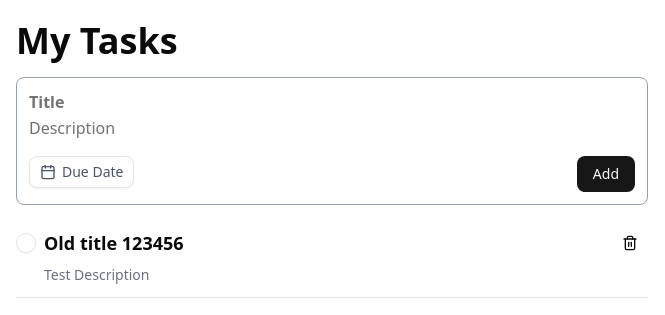
Test case: App › saves edits and exits edit mode
The image size is (665, 315).
Expected: the heading "My Tasks" is shown, [16,16,178,65]
Note: Enter edit mode
Click the button "Old title 123456 Test Description": {"x": 114, "y": 243} [16,221,648,298]
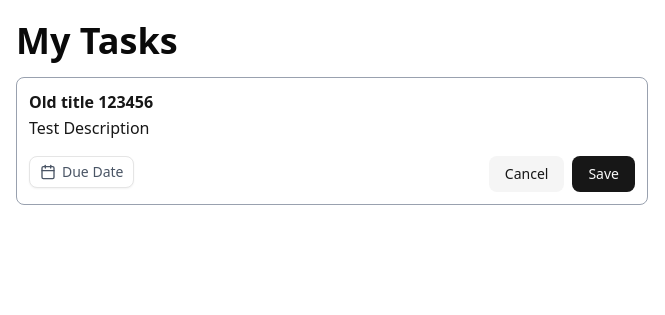
Replace the text in the text box named "Title" with "New edited title 123456": {"x": 332, "y": 102} [29,90,635,114]
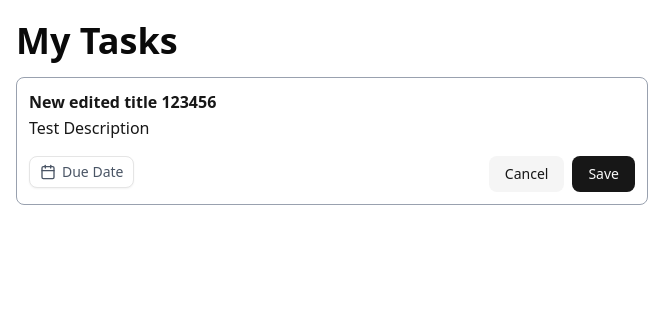
Click the button "Save": {"x": 604, "y": 174} [572,156,635,192]
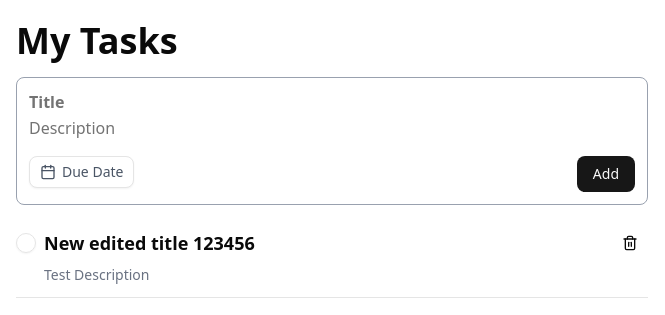
Now the text "New edited title 123456" is shown, box [44,231,255,255]
Now the button "Add" is shown, box [577,156,635,192]
